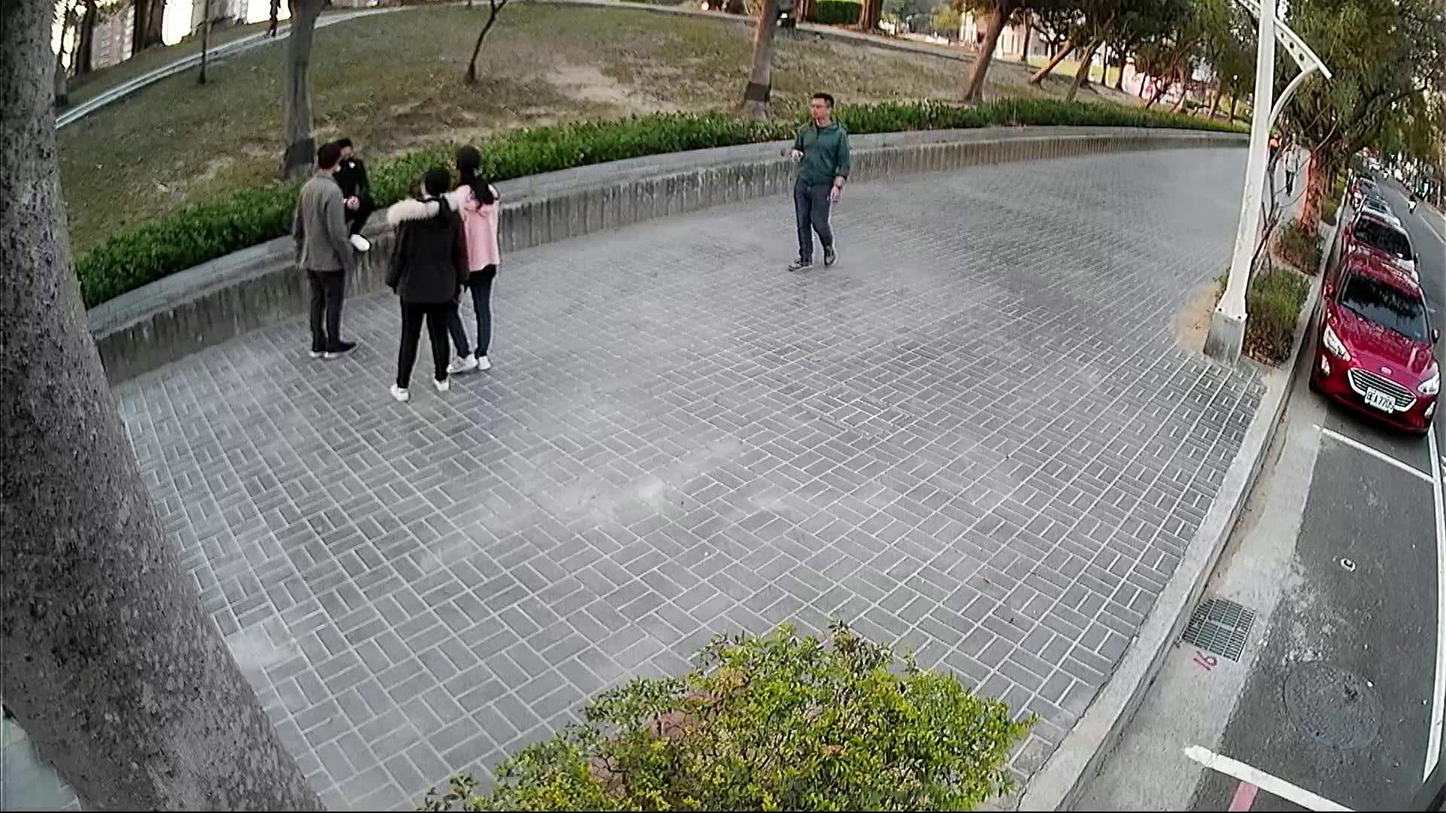person: (377, 158, 468, 400), (288, 137, 359, 363), (440, 139, 500, 376), (779, 86, 852, 276), (329, 134, 377, 253), (254, 0, 283, 41), (1280, 139, 1300, 196), (1262, 127, 1281, 174)
